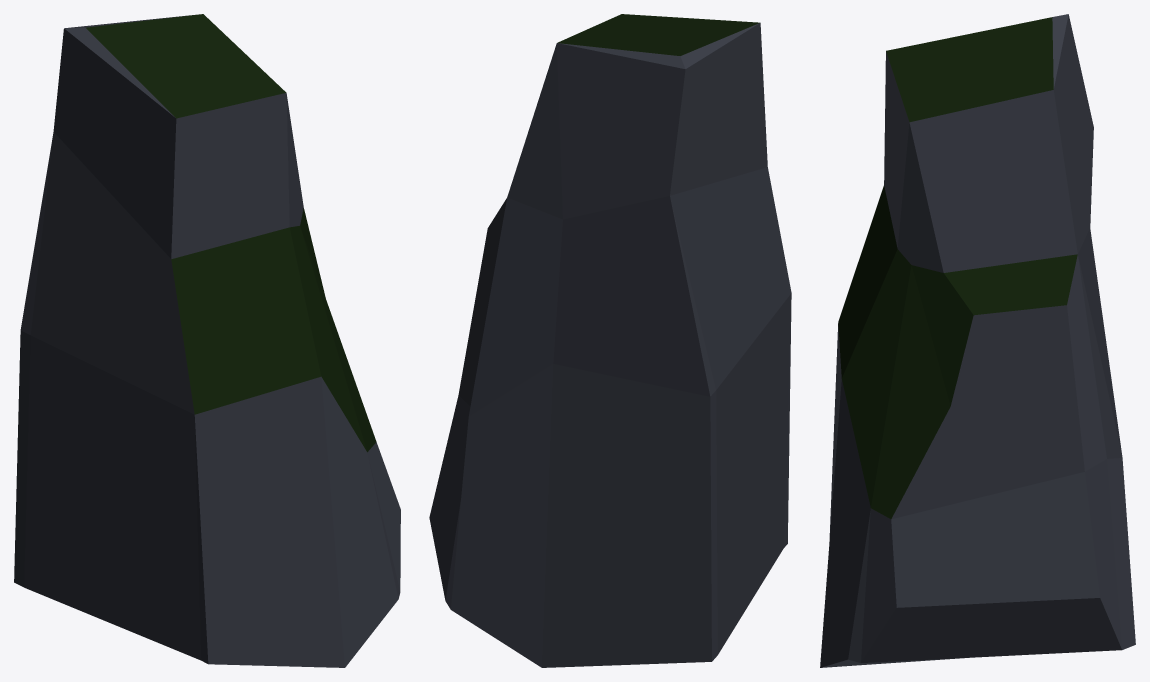
Rendered from Rock_Moss_1.glb.
The picture shows the model from 3 angles, left to right: view 1: azimuth 30°, elevation 25°; view 2: azimuth 150°, elevation 25°; view 3: azimuth 270°, elevation 25°; orthographic projection. The views are drawn at different scales.
Visible parts, largest first — view 1: Rock_Moss_1_Cube.019; view 2: Rock_Moss_1_Cube.019; view 3: Rock_Moss_1_Cube.019.
Part boxes in pixels (x1,y1,x2,y2): Rock_Moss_1_Cube.019: (14,14,400,667); Rock_Moss_1_Cube.019: (429,14,791,667); Rock_Moss_1_Cube.019: (820,14,1135,667).
Bounding box in the file's own units: 0.4853 × 0.95 × 0.4667.
